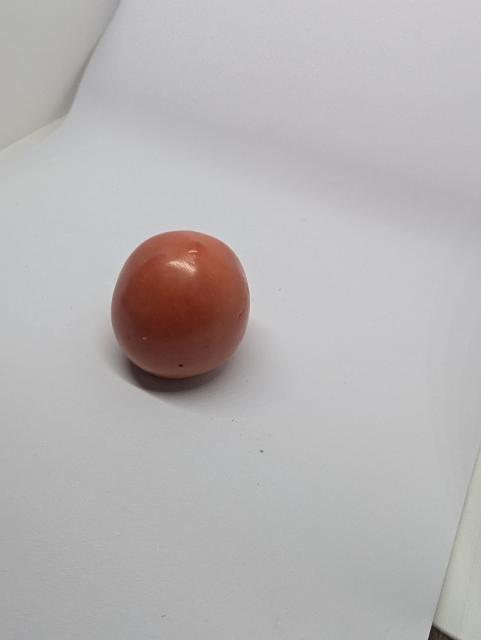red: (95, 224, 263, 383)
